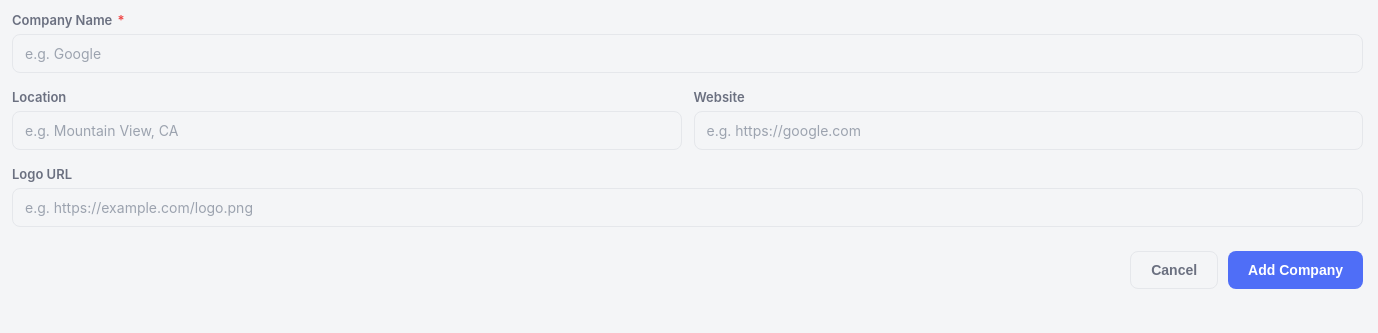
Test: CompanyForm › shows the backend's message when the name is already taken
Type "Acme" into the field with placeholder "e.g. Google" at {"x": 688, "y": 54}, box [12,34,1363,73]
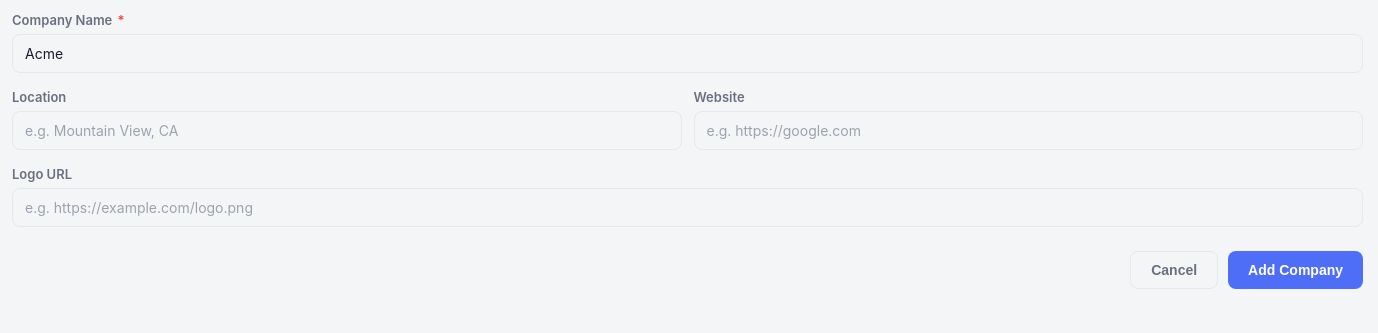
Click the button "Add Company" at {"x": 1296, "y": 270}, box [1228,251,1363,289]
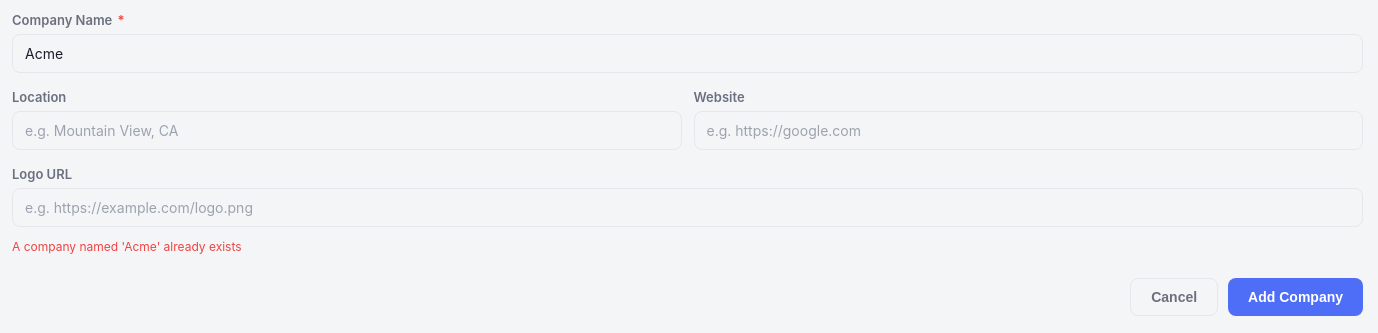
Expected: the text "A company named 'Acme' already exists" is shown, [12,239,242,254]
